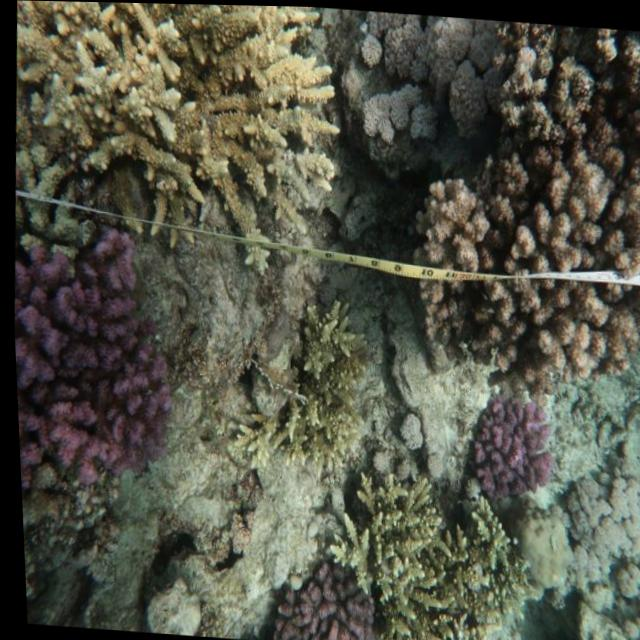Healthy Coral: (7, 214, 182, 500), (464, 381, 551, 498), (259, 557, 375, 640)
